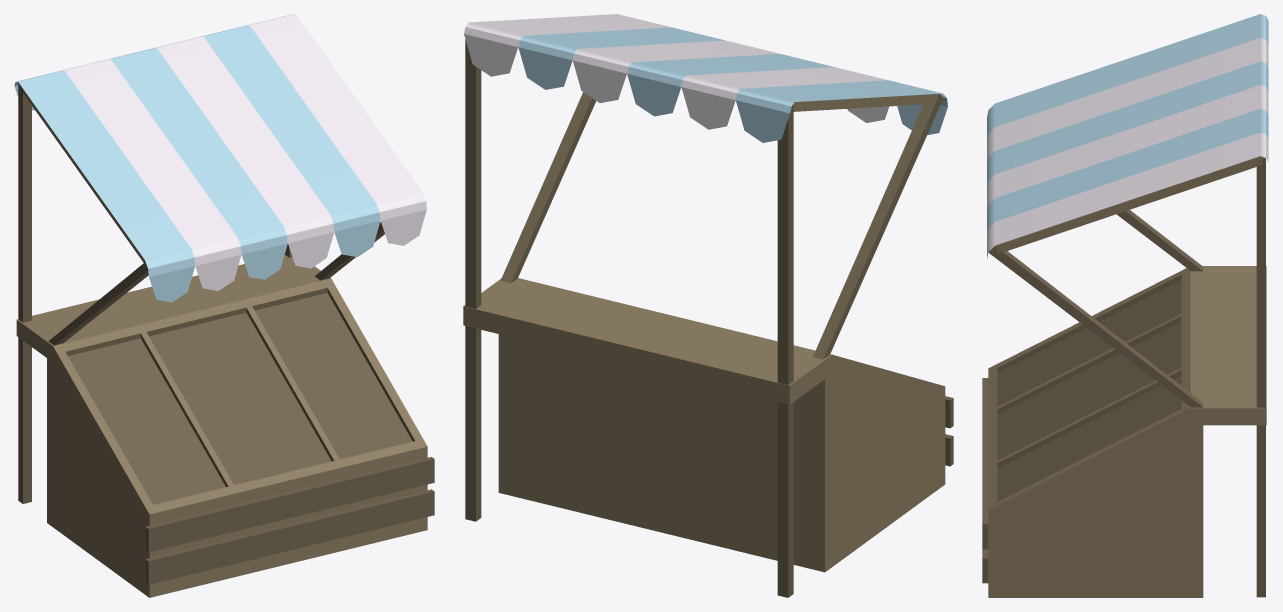
Rendered from OldManStall.fbx.
3 views of the same model, side by side, from view 1: azimuth 30°, elevation 25°; view 2: azimuth 150°, elevation 25°; view 3: azimuth 270°, elevation 25° (orthographic). The views are drawn at different scales.
Visible parts, largest first — view 1: OldManStall, OldManStall_Top; view 2: OldManStall, OldManStall_Top; view 3: OldManStall, OldManStall_Top.
Boxes of the visible parts, x1,y1,x2,y2 form: OldManStall: (16,82,434,597); OldManStall_Top: (14,14,426,302); OldManStall: (463,39,953,597); OldManStall_Top: (464,14,947,142); OldManStall: (982,156,1266,597); OldManStall_Top: (987,14,1268,258).
Bounding box in the file's own units: 27.36 × 38.5 × 22.65.
Materials: 3 (1 with a texture image).
